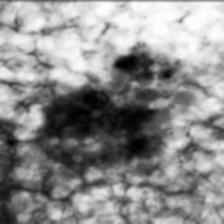Potentially Malignant Skin Tumors: (66, 46, 173, 156)
